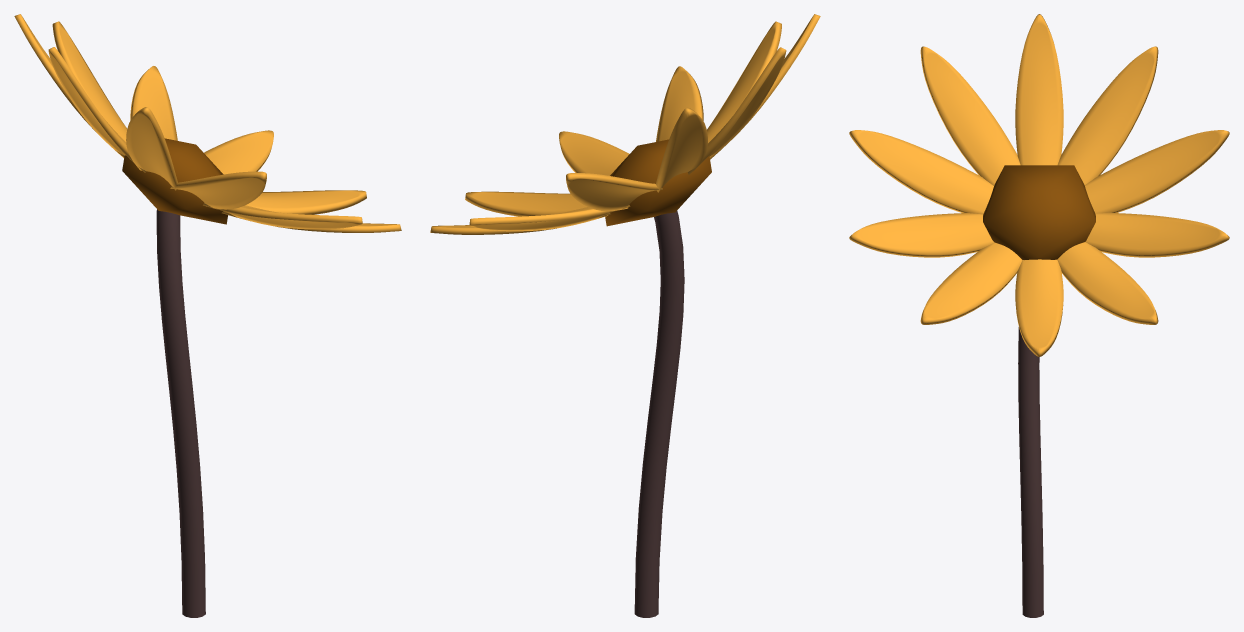
The model's file is yellow-flower.glb.
The picture shows the model from 3 angles, left to right: view 1: azimuth 30°, elevation 25°; view 2: azimuth 150°, elevation 25°; view 3: azimuth 270°, elevation 25°; orthographic projection. The views are drawn at different scales.
Visible parts, largest first — view 1: BezierCircle.006; view 2: BezierCircle.006; view 3: BezierCircle.006.
Boxes of the visible parts, x1,y1,x2,y2 form: BezierCircle.006: (14, 14, 401, 617); BezierCircle.006: (430, 14, 820, 617); BezierCircle.006: (849, 14, 1229, 617).
Bounding box in the file's own units: 4.59 × 8.25 × 5.28.
